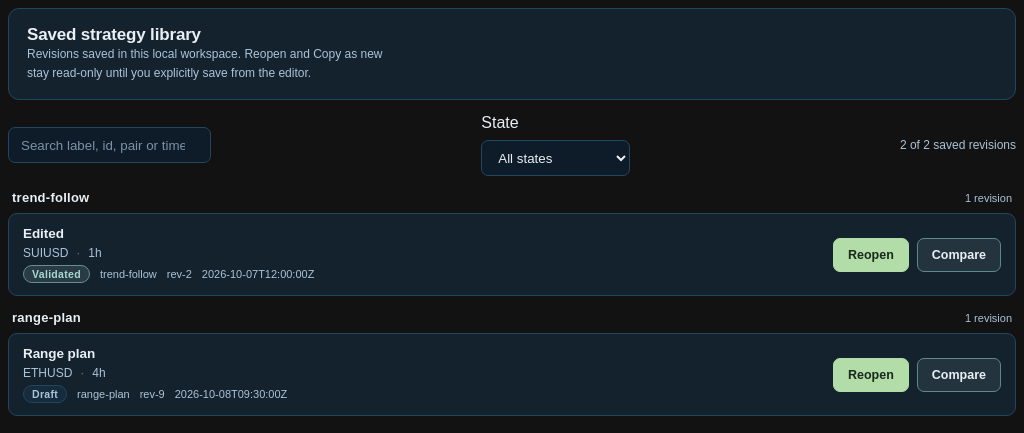
it: SavedStrategyLibrary signal slice — search › shows a distinct no-match state that names the query, separate from the no-records state
Check: the number of list items with test id "library-row" is 2, box 8,213 -> 1016,296; 8,333 -> 1016,416
Type "does-not-exist" into the search field named "search saved strategies".
click(110, 145); type("does-not-exist")  # box 8,127 -> 211,163
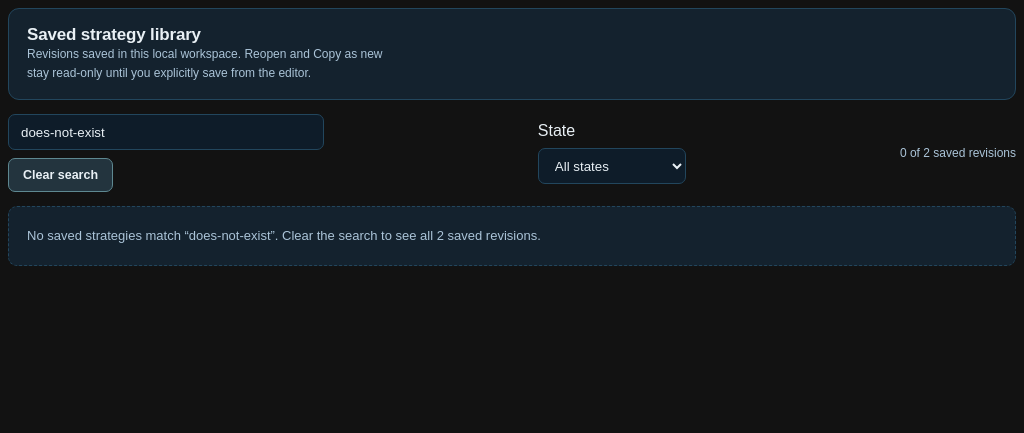
Check: the list item with test id "library-row" is gone
Check: the text with test id "library-search-empty" shows "does-not-exist", box 189,228 -> 271,243
